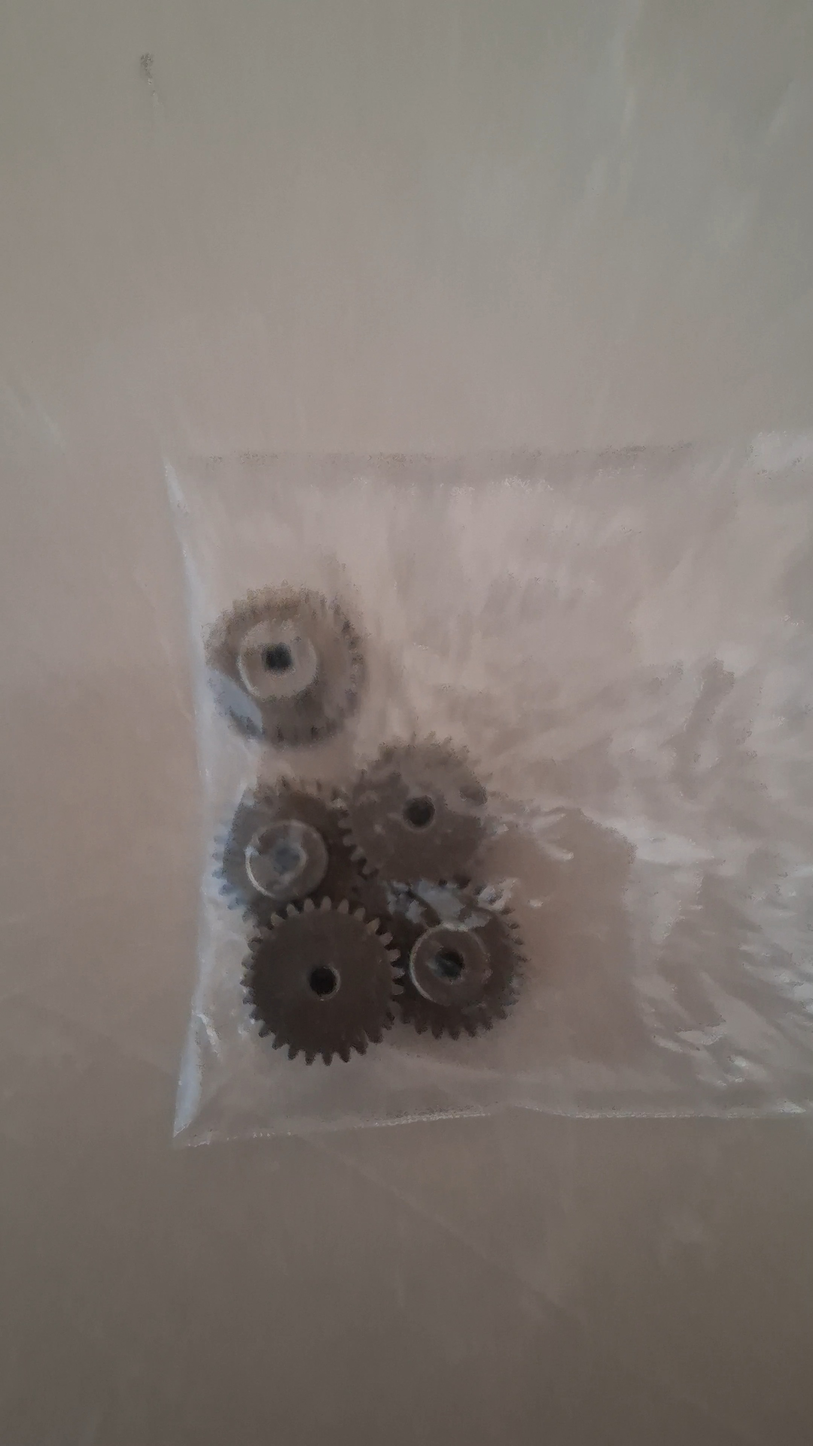spur gear: (244, 898, 400, 1064), (206, 589, 365, 747), (346, 739, 487, 882), (218, 779, 359, 921), (399, 886, 524, 1038)
